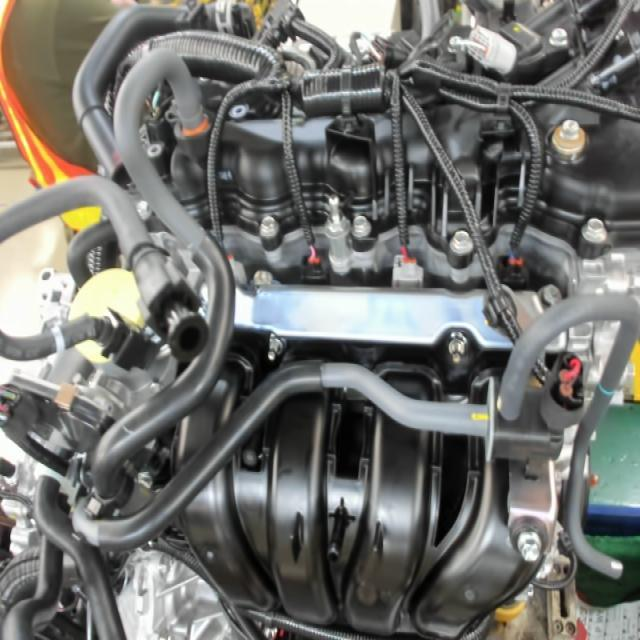Hose Canister-HJ: (596, 378, 617, 403)
Tube Sub Assy Fuel-W: (50, 324, 68, 356)
